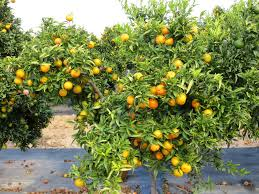orange: (163, 128, 180, 139), (175, 92, 187, 106), (145, 98, 159, 110), (154, 36, 165, 46), (69, 68, 81, 77), (64, 80, 72, 90)
